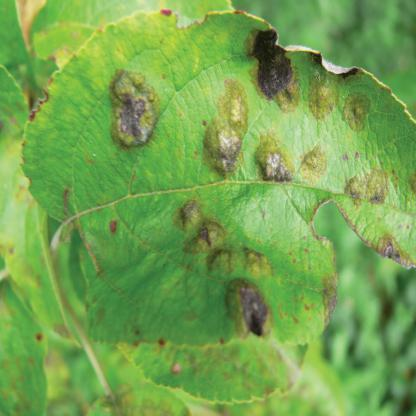apple scab leaf: (18, 9, 416, 401)
